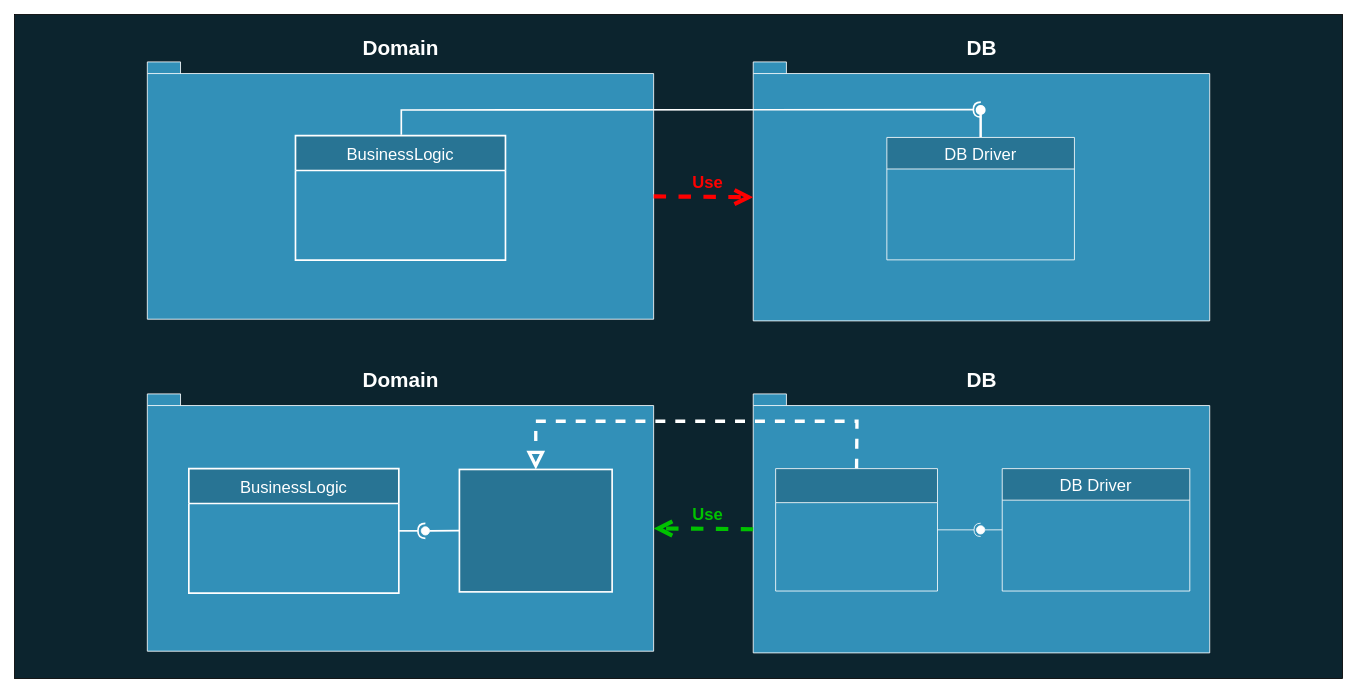
This 1357x693 diagram has some shape labels left out. Here are the shapes that lost their labels. From the top down, the centre of each, then its label:
At point (535, 530): "«interface» BusinessLogicOutput".
At point (856, 529): "DB Adapter".
